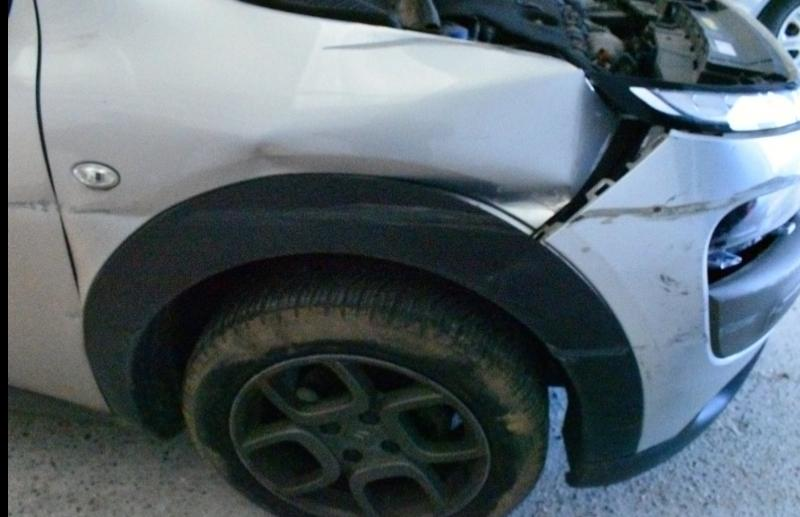Fender: (36, 0, 628, 308)
Front-bumper: (84, 89, 800, 488)
Front-door: (0, 0, 111, 412)
Front-wheel: (174, 269, 550, 516)
Headlight: (702, 181, 799, 292)
